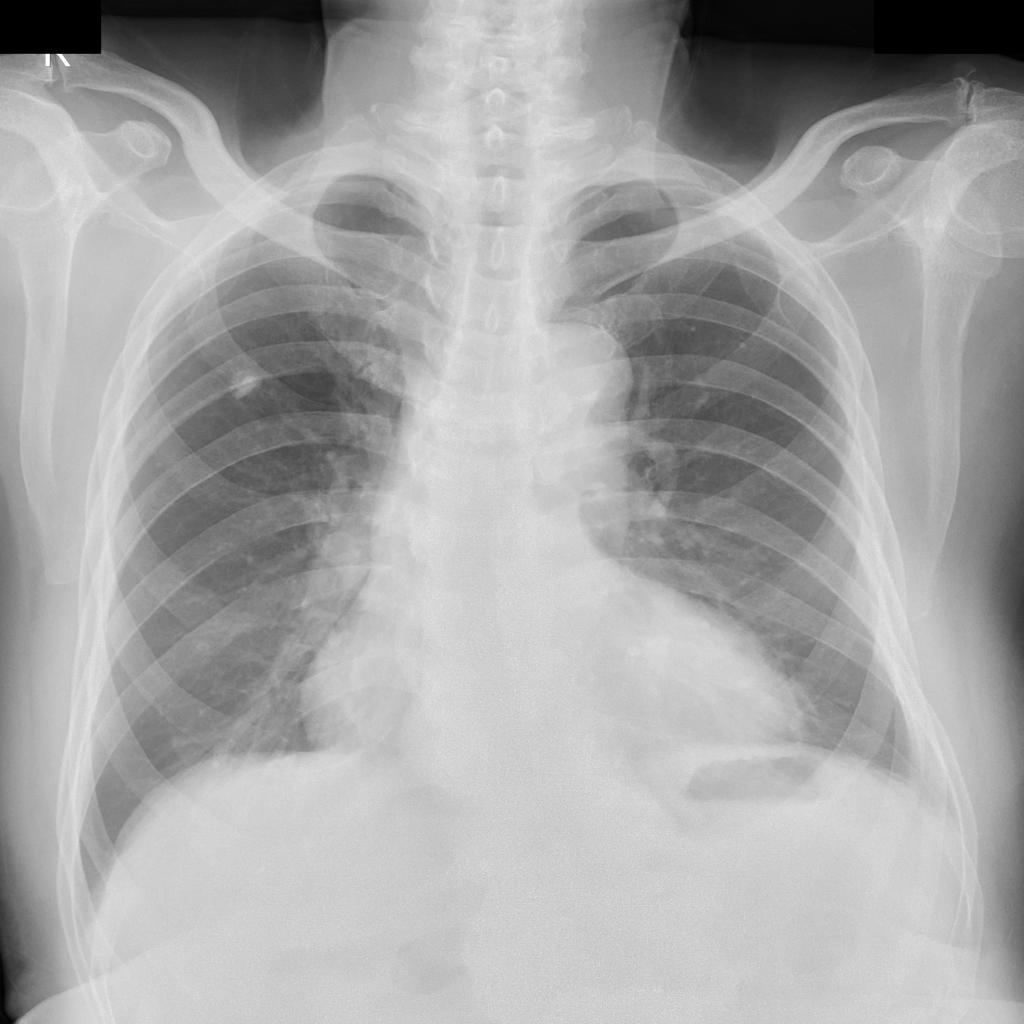Nodule: (232, 370, 260, 400)
